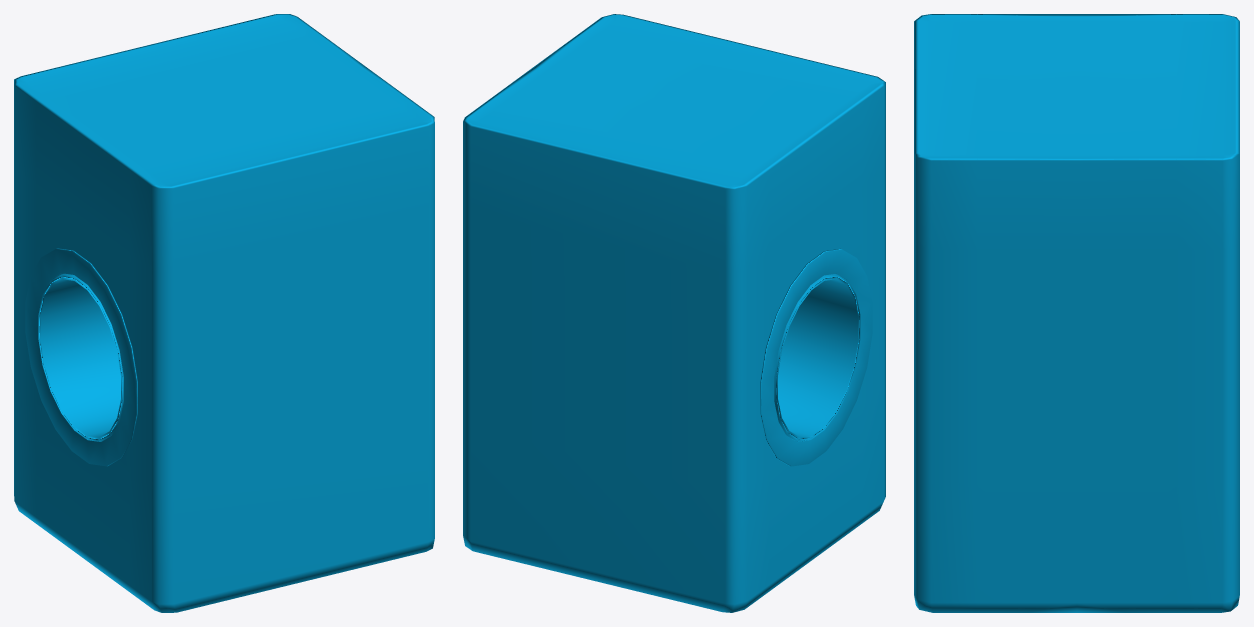
File: Washing_Machine_Lod2.fbx
The picture shows the model from 3 angles, left to right: view 1: azimuth 30°, elevation 25°; view 2: azimuth 150°, elevation 25°; view 3: azimuth 270°, elevation 25°; orthographic projection. The views are drawn at different scales.
Visible parts, largest first — view 1: Washing_Machine_Lod2; view 2: Washing_Machine_Lod2; view 3: Washing_Machine_Lod2.
Part boxes in pixels (x1=…): Washing_Machine_Lod2: x1=14, y1=14, x2=434, y2=612; Washing_Machine_Lod2: x1=463, y1=14, x2=885, y2=612; Washing_Machine_Lod2: x1=914, y1=14, x2=1239, y2=612.
Size of the model in its own units: 64.65 by 92.39 by 60.15.
